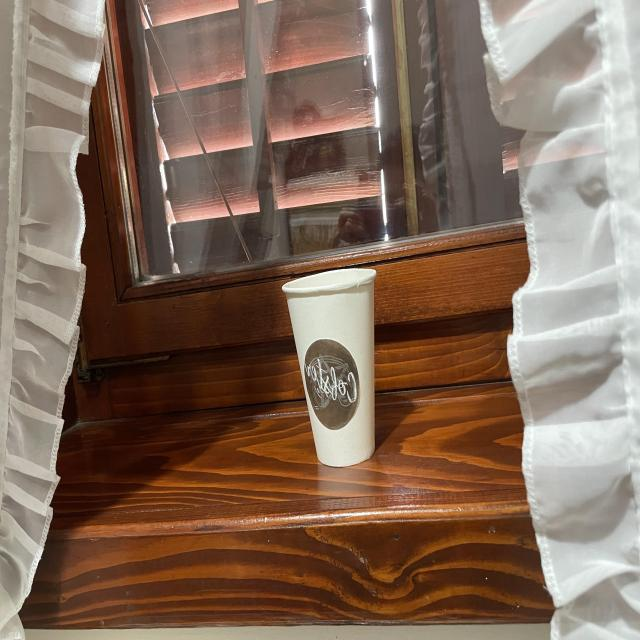big: (280, 260, 380, 470)
